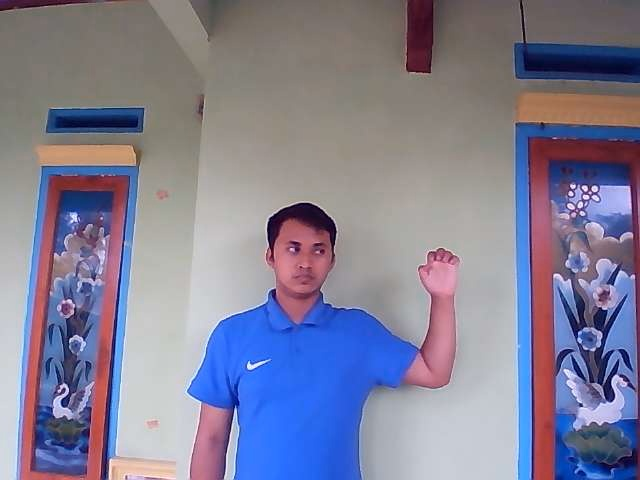E: (417, 247, 461, 296)
